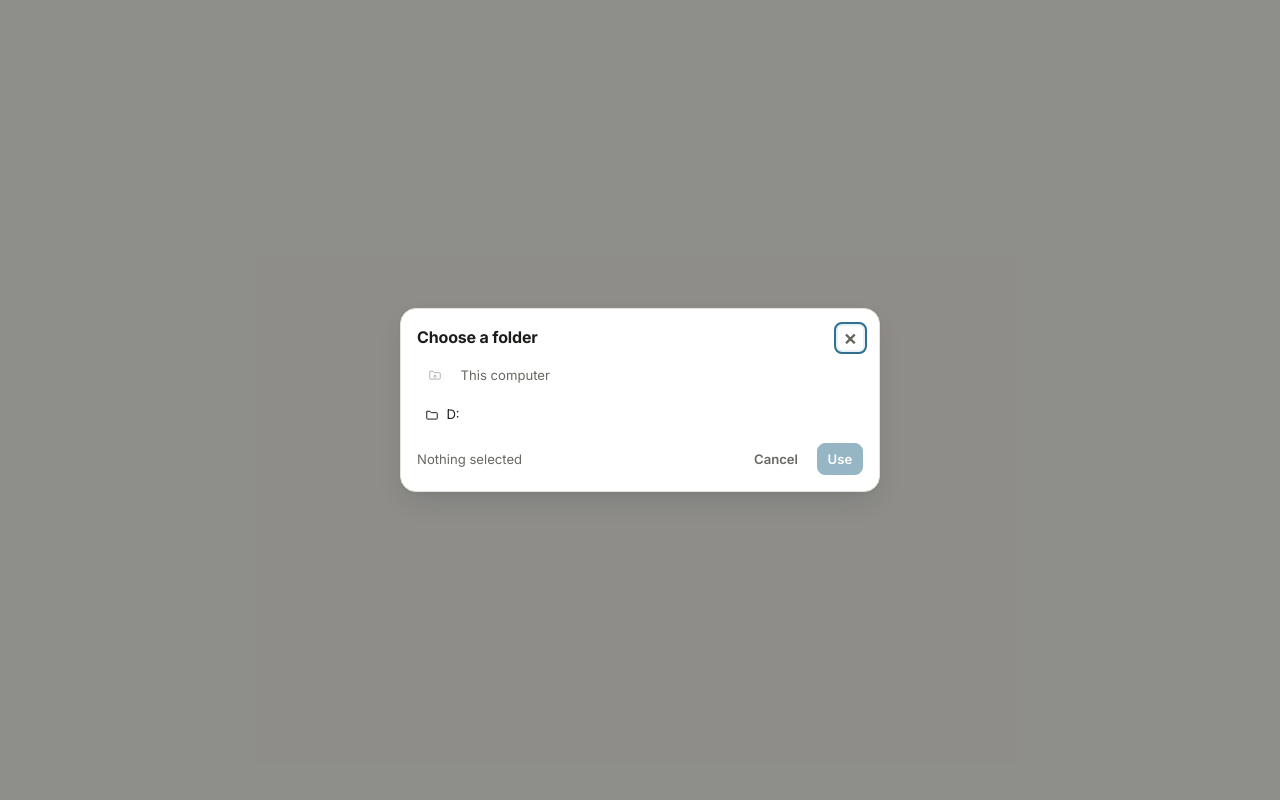
Scenario: opens somewhere and walks into a folder
What coordinates should you click on to do the following:
click the button "D:"
I would click on:
 (432, 415)
Its box is [417,399,863,431].
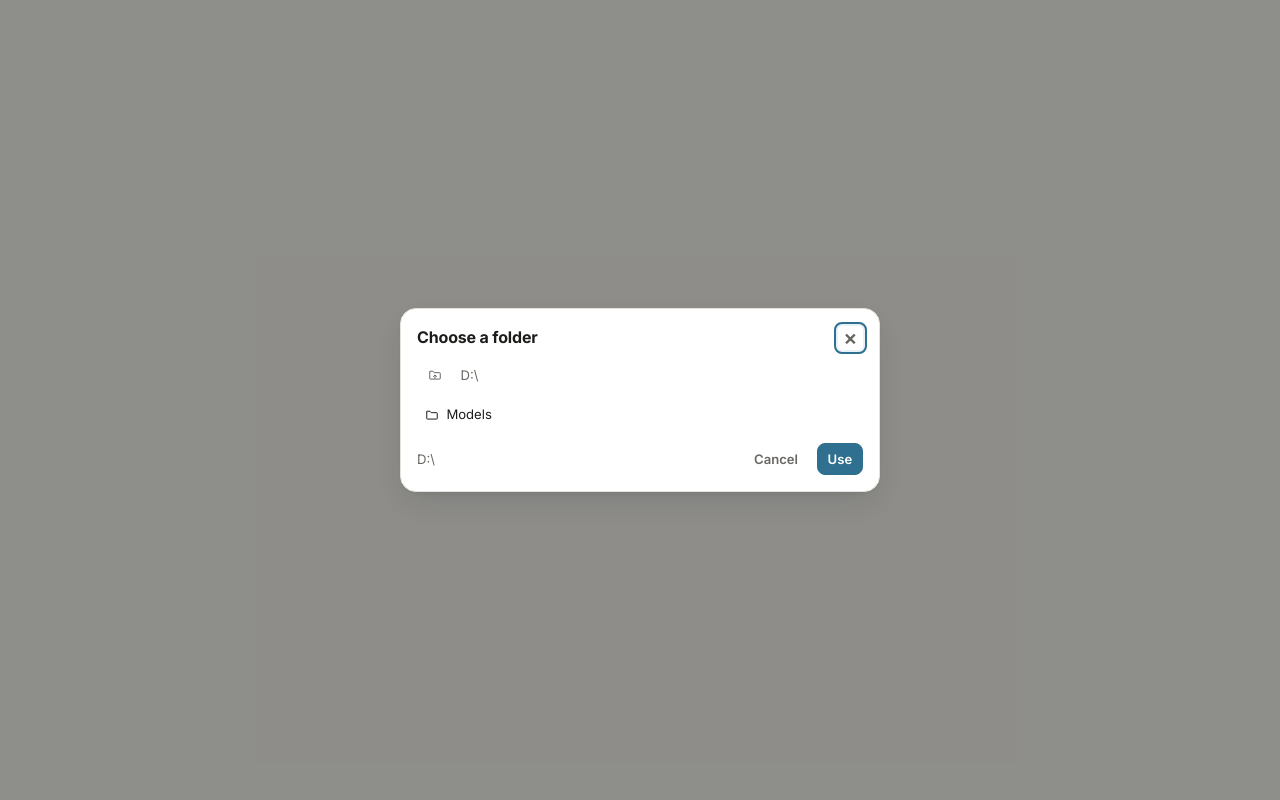
Result: the button "Models" is shown at [417,399,863,431]
